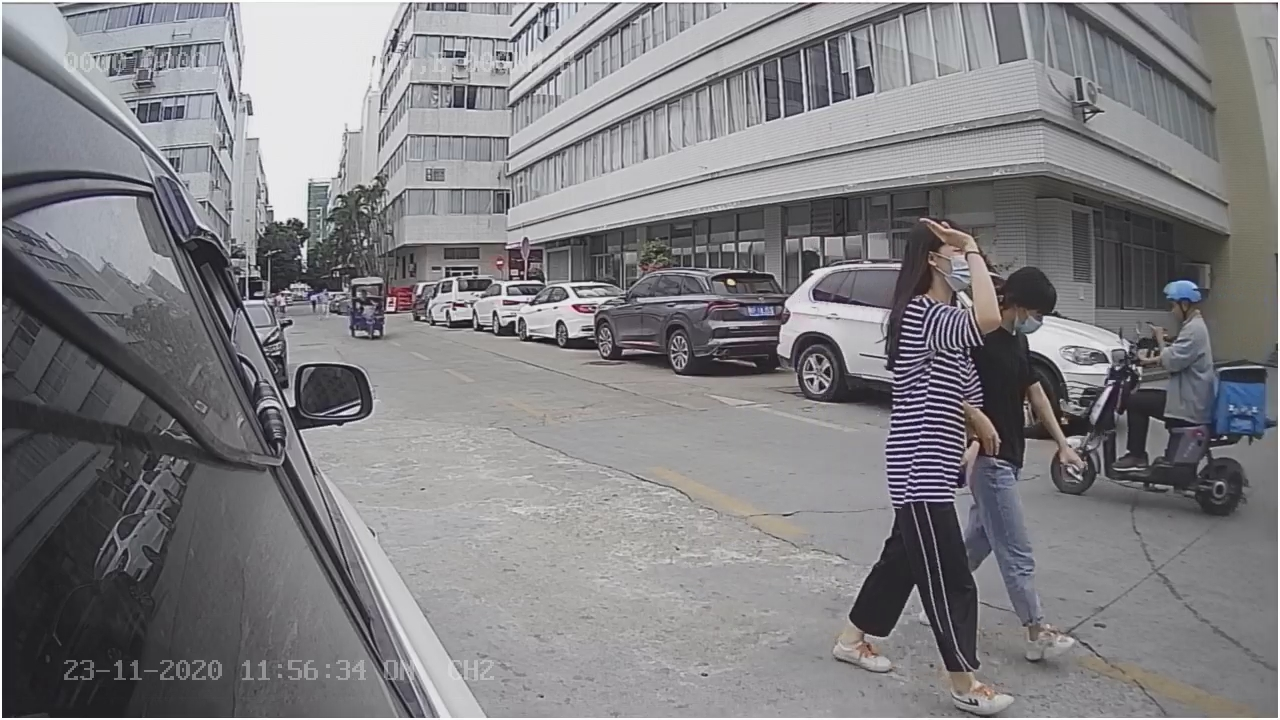person: (1149, 275, 1215, 410)
